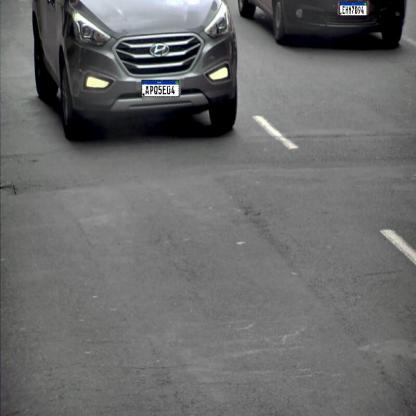PlacaM: (142, 80, 180, 97), (340, 1, 367, 16)
